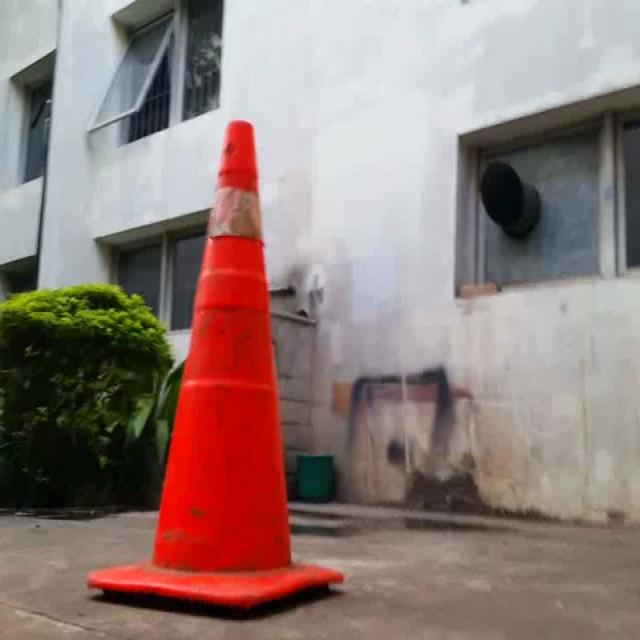cone: (88, 120, 344, 603)
